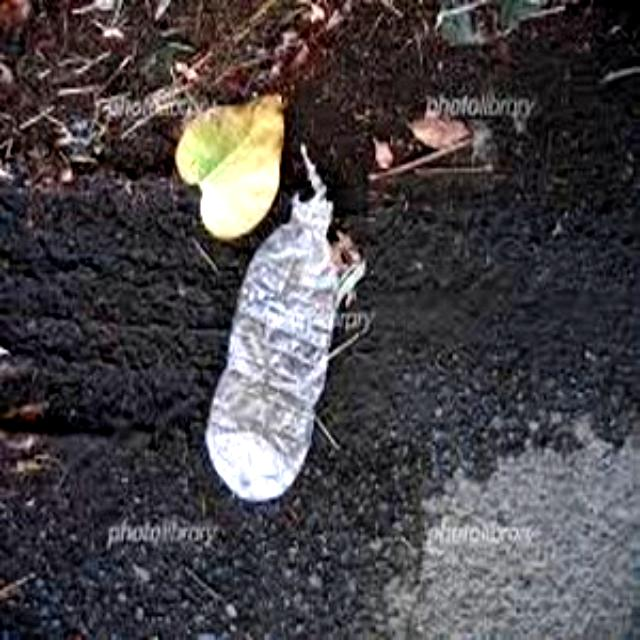Plastic: (207, 193, 335, 501)
